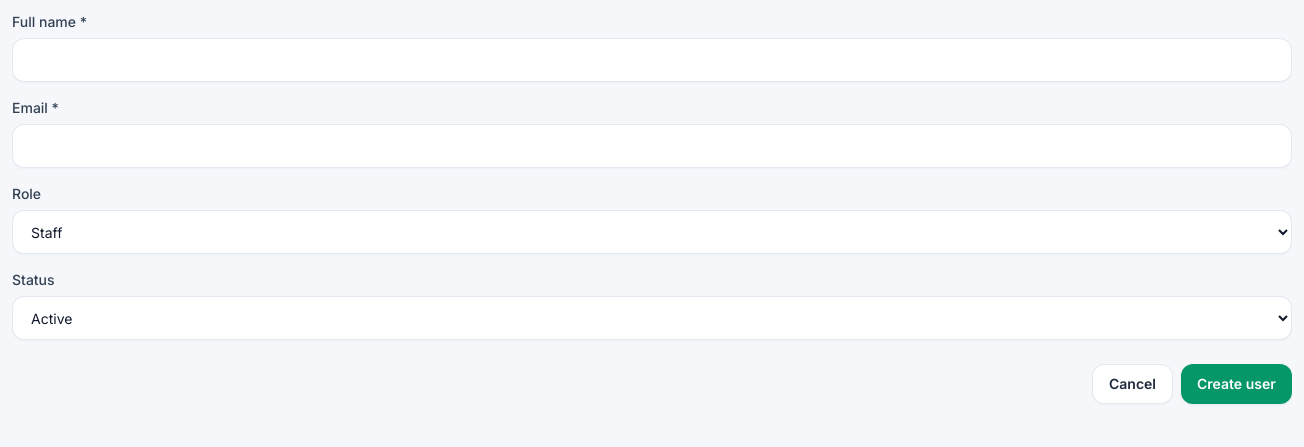
Test: UserForm › rejects an invalid email address
Type "Test User" into the field labelled "Full name *" at (652, 60), box [12,38,1292,82]
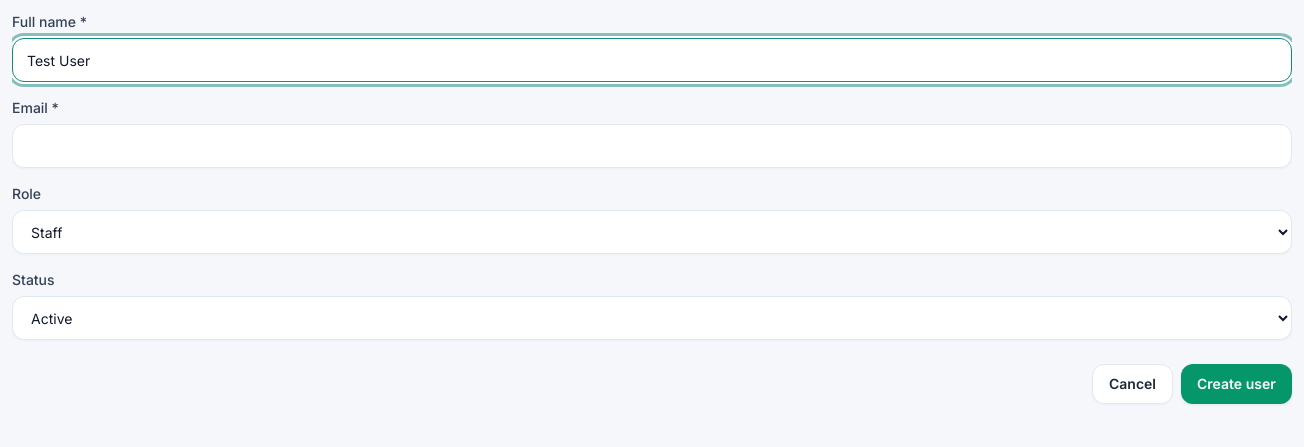
Type "not-an-email" into the field labelled "Email *" at (652, 146), box [12,124,1292,168]
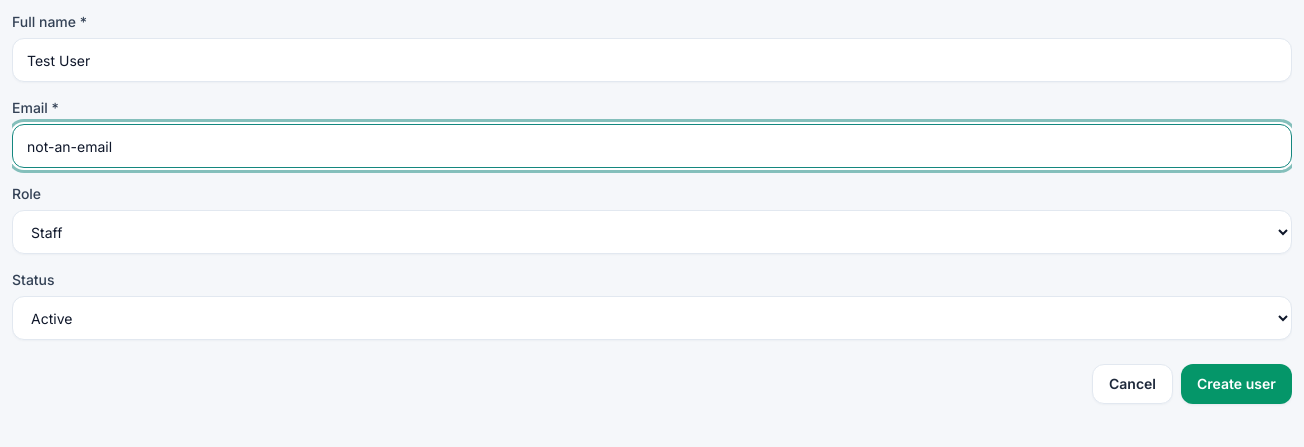
Click the button "Create user" at (1237, 384), box [1181,364,1292,404]
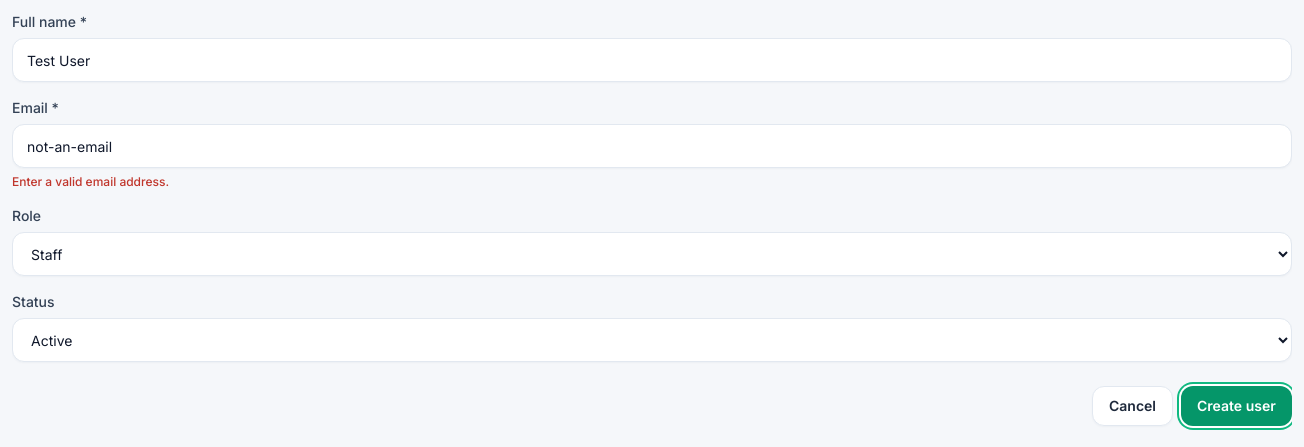
Expected: the text "Enter a valid email address." is shown, [12,174,169,189]
